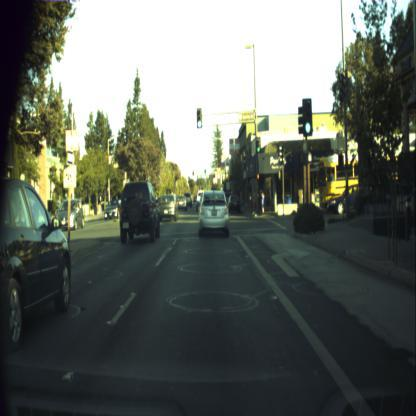Green: (302, 98, 312, 136), (196, 107, 202, 128), (256, 136, 260, 153), (222, 180, 224, 186), (204, 168, 206, 174)
Red: (192, 168, 194, 176)
